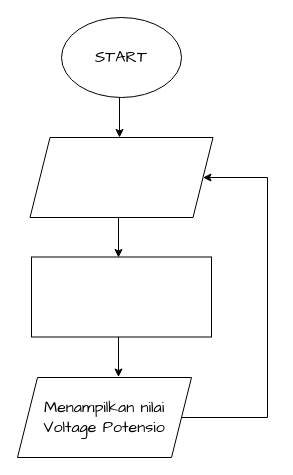
The diagram is 293 pixels wide and 475 high, and some of its shapes have lost their labels. The centre of each missing label's shape, as x and y in pixels:
"Mengubah nilai Analog menjadi nilai PWM (tegangan) (0-255)" belongs at (121,296).
"Pilih nilai terhadap Analog Potensio (0 - 10240)" belongs at (121,177).
